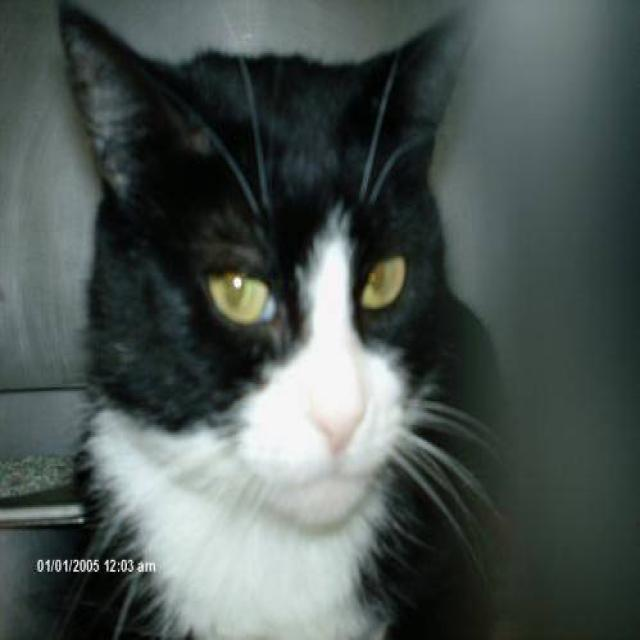cat: (28, 2, 510, 638)
